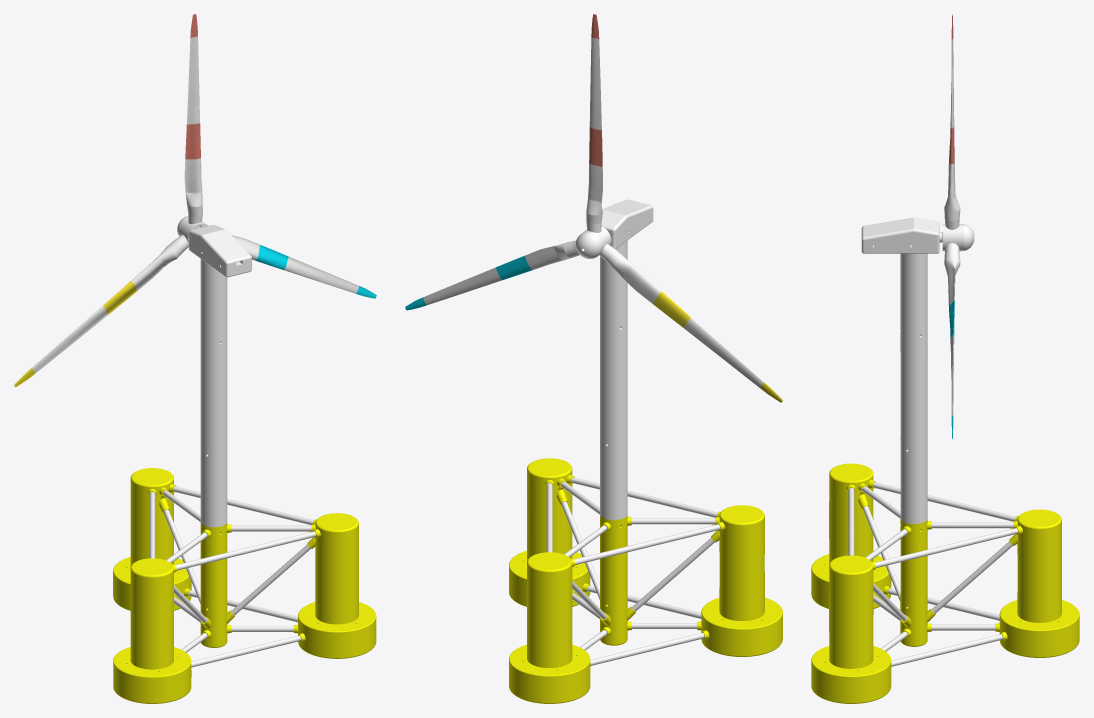
3 renders of one model, left to right at view 1: azimuth 30°, elevation 25°; view 2: azimuth 150°, elevation 25°; view 3: azimuth 270°, elevation 25°, orthographic. The views are drawn at different scales.
Visible parts, largest first — view 1: pontoon_top.001, pontoon_top, pontoon_top.002, pilar_mid_b, Body1.016, Body1.014, pilar_mid_b (1) (1), pilar_top, pilar_mid_t, Body1.067, pilar_base, MeshBody1 (2) (+11 smaller); view 2: pontoon_top, pontoon_top.002, pontoon_top.001, pilar_mid_b, Body1.014, Body1.038, pilar_mid_b (1) (1), pilar_top, pilar_mid_t, pilar_base, Body1.067, MeshBody1 (2).002 (+11 smaller); view 3: pontoon_top.002, pontoon_top.001, pontoon_top, pilar_mid_b, Body1.038, Body1.016, pilar_mid_b (1) (1), pilar_mid_t, pilar_top, Body1.067, pilar_base, Body1.112 (+13 smaller).
Boxes of the visible parts, bbox=[...] form: pontoon_top.001: bbox=[300, 513, 374, 630]; pontoon_top: bbox=[115, 558, 189, 675]; pontoon_top.002: bbox=[115, 468, 188, 582]; pilar_mid_b: bbox=[200, 332, 227, 449]; Body1.016: bbox=[293, 602, 376, 658]; Body1.014: bbox=[113, 647, 191, 703]; pilar_mid_b (1) (1): bbox=[200, 444, 227, 527]; pilar_top: bbox=[200, 523, 231, 601]; pilar_mid_t: bbox=[200, 259, 227, 336]; Body1.067: bbox=[189, 224, 251, 267]; pilar_base: bbox=[200, 597, 235, 647]; MeshBody1 (2): bbox=[184, 158, 202, 226]; pontoon_top: bbox=[703, 505, 780, 627]; pontoon_top.002: bbox=[511, 552, 588, 674]; pontoon_top.001: bbox=[511, 458, 586, 577]; pilar_mid_b: bbox=[600, 316, 627, 444]; Body1.014: bbox=[697, 597, 782, 656]; Body1.038: bbox=[509, 644, 590, 703]; pilar_mid_b (1) (1): bbox=[600, 434, 627, 519]; pilar_top: bbox=[600, 515, 631, 605]; pilar_mid_t: bbox=[600, 240, 627, 327]; pilar_base: bbox=[600, 592, 636, 645]; Body1.067: bbox=[601, 199, 653, 239]; MeshBody1 (2).002: bbox=[599, 244, 661, 303]; pontoon_top.002: bbox=[1001, 509, 1077, 629]; pontoon_top.001: bbox=[813, 555, 889, 675]; pontoon_top: bbox=[813, 463, 887, 580]; pilar_mid_b: bbox=[900, 324, 927, 450]; Body1.038: bbox=[995, 600, 1079, 657]; Body1.016: bbox=[811, 646, 891, 703]; pilar_mid_b (1) (1): bbox=[900, 438, 927, 529]; pilar_mid_t: bbox=[900, 253, 927, 335]; pilar_top: bbox=[900, 518, 931, 607]; Body1.067: bbox=[861, 217, 939, 246]; pilar_base: bbox=[900, 594, 935, 646]; Body1.112: bbox=[875, 528, 1018, 567].
Bounding box in the file's own units: 1.1 × 1.78 × 0.6885.
